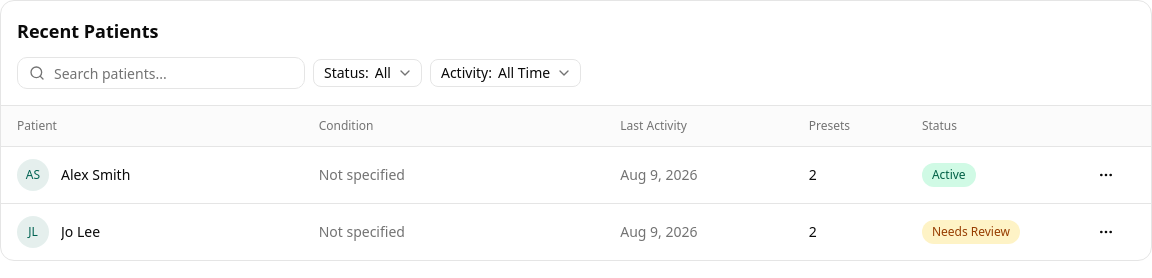
Test: RecentPatientsTable › filtering › narrows the rows to a status
Click the dropdown named "Patient status" at (367, 73), box [313,59,422,87]
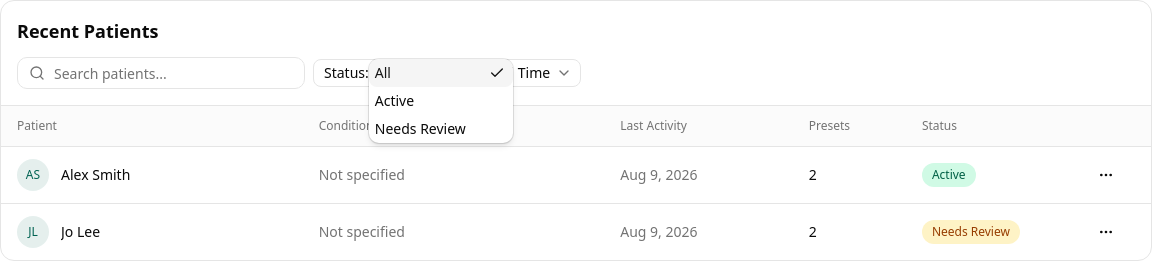
Click the option "Needs Review" at (420, 128), box [375,119,466,138]
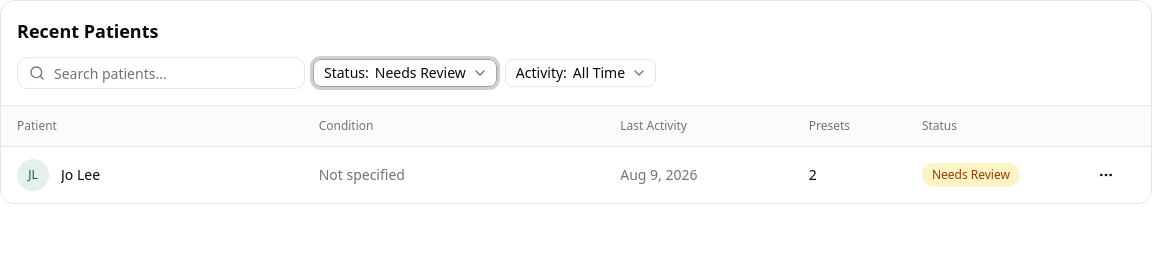
expect the text "Jo Lee" is shown: met, box [61,165,100,185]
expect the text "Alex Smith" is gone: met
